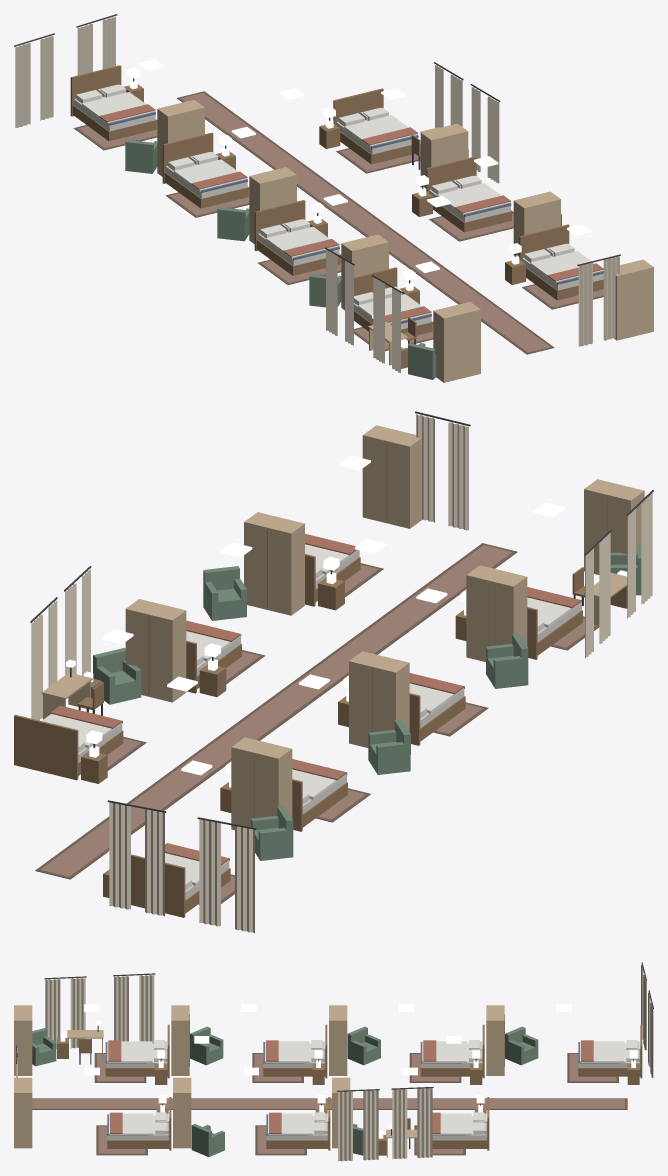
File: fine-s2.glb
3 renders of one model, top to bottom at view 1: azimuth 30°, elevation 25°; view 2: azimuth 150°, elevation 25°; view 3: azimuth 270°, elevation 25°, orthographic. The views are drawn at different scales.
Parts seen in each view (by area): view 1: soft-s2, dresser.013, dresser.009, bed-frame.010, bed-frame.011, bed-frame.012, bed-frame.008, bed-frame.007, bed-frame.009, dresser.010, dresser.011, dresser.007 (+8 smaller); view 2: soft-s2, dresser.008, dresser.009, dresser.007, dresser.012, dresser.011, dresser.010, bed-frame.007, dresser.013, bed-frame.010, lounge-chair.007, lounge-chair.006 (+12 smaller); view 3: soft-s2, dresser.008, dresser.009, dresser.010, dresser.011, dresser.012, dresser.013, bed-frame.008, bed-frame.009, bed-frame.007, lounge-chair.009, lounge-chair.008 (+10 smaller).
Boxes of the visible parts, left/top/right/bottom form: soft-s2: left=14, top=14, right=620, bottom=372; dresser.013: left=433, top=302, right=480, bottom=382; dresser.009: left=614, top=259, right=653, bottom=340; bed-frame.010: left=70, top=65, right=156, bottom=141; bed-frame.011: left=162, top=132, right=248, bottom=208; bed-frame.012: left=254, top=200, right=340, bottom=275; bed-frame.008: left=426, top=156, right=511, bottom=232; bed-frame.007: left=333, top=88, right=418, bottom=164; bed-frame.009: left=519, top=224, right=603, bottom=300; dresser.010: left=157, top=100, right=204, bottom=176; dresser.011: left=249, top=167, right=296, bottom=243; dresser.007: left=420, top=123, right=468, bottom=188; soft-s2: left=30, top=411, right=653, bottom=933; dresser.008: left=244, top=512, right=304, bottom=615; dresser.009: left=362, top=425, right=422, bottom=528; dresser.007: left=125, top=599, right=186, bottom=702; dresser.012: left=466, top=565, right=527, bottom=661; dresser.011: left=349, top=651, right=409, bottom=747; dresser.010: left=231, top=737, right=292, bottom=830; bed-frame.007: left=14, top=714, right=123, bottom=780; dresser.013: left=584, top=479, right=644, bottom=574; bed-frame.010: left=131, top=854, right=230, bottom=917; lounge-chair.007: left=203, top=566, right=246, bottom=620; lounge-chair.006: left=93, top=648, right=141, bottom=704; soft-s2: left=16, top=962, right=653, bottom=1161; dresser.008: left=173, top=1077, right=191, bottom=1148; dresser.009: left=14, top=1077, right=32, bottom=1148; dresser.010: left=486, top=1005, right=504, bottom=1075; dresser.011: left=329, top=1005, right=347, bottom=1075; dresser.012: left=171, top=1005, right=189, bottom=1075; dresser.013: left=14, top=1005, right=32, bottom=1075; bed-frame.008: left=266, top=1097, right=330, bottom=1150; bed-frame.009: left=107, top=1097, right=171, bottom=1150; bed-frame.007: left=432, top=1097, right=489, bottom=1150; lounge-chair.009: left=347, top=1026, right=380, bottom=1065; lounge-chair.008: left=505, top=1026, right=538, bottom=1065.
Size of the model in its own units: 10.01 by 2.61 by 21.04.
